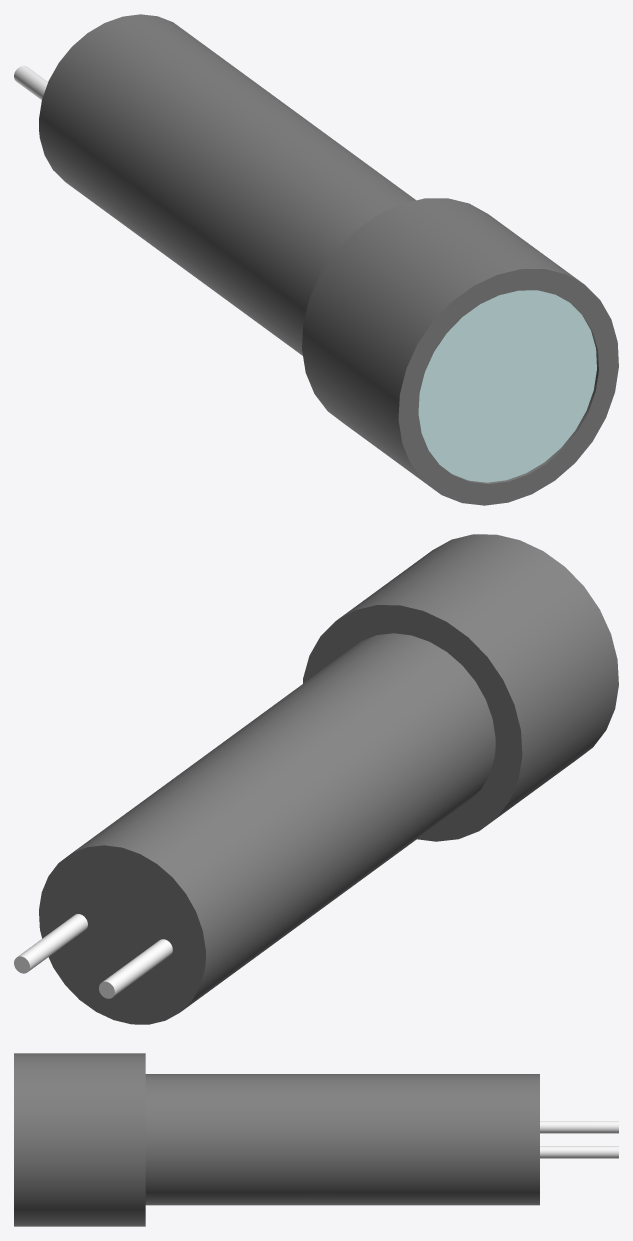
3 renders of one model, top to bottom at view 1: azimuth 30°, elevation 25°; view 2: azimuth 150°, elevation 25°; view 3: azimuth 270°, elevation 25°, orthographic. The views are drawn at different scales.
Visible parts, largest first — view 1: mesh33894, mesh33896, mesh33899, mesh33897, mesh33898, mesh33900; view 2: mesh33894, mesh33896, mesh33893, mesh33895, mesh33900, mesh33892; view 3: mesh33894, mesh33896, mesh33892, mesh33900.
Part boxes in pixels (x1,y1,x2,y2): mesh33894: (39,14,415,355); mesh33896: (302,198,583,487); mesh33899: (418,290,596,482); mesh33897: (398,269,618,505); mesh33898: (452,303,598,483); mesh33900: (14,65,47,99); mesh33894: (72,633,495,1011); mesh33896: (337,534,618,823); mesh33893: (39,845,205,1024); mesh33895: (303,605,522,841); mesh33900: (103,939,172,996); mesh33892: (18,914,87,971); mesh33894: (145,1074,539,1205); mesh33896: (14,1053,145,1226); mesh33892: (540,1146,618,1158); mesh33900: (540,1121,618,1133).
Bounding box in the file's own units: 0.00659 × 0.00658 × 0.023.
